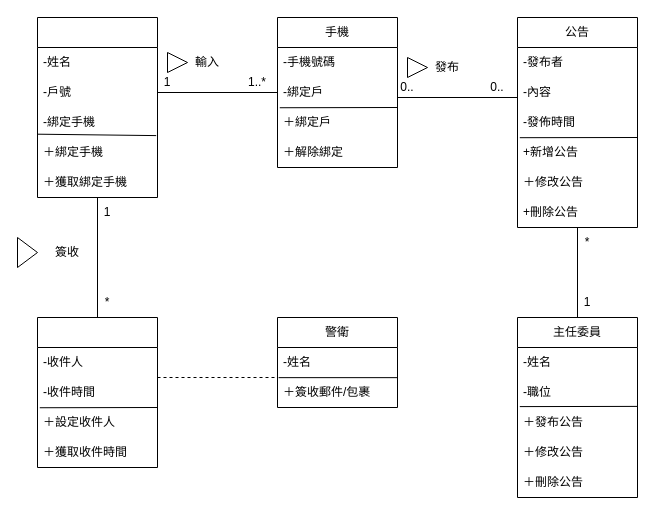
This 656x515 diagram has some shape labels left out. Each missing label, with the box of its shape:
住戶: (36, 16, 158, 198)
信件/包裹: (36, 316, 158, 468)
